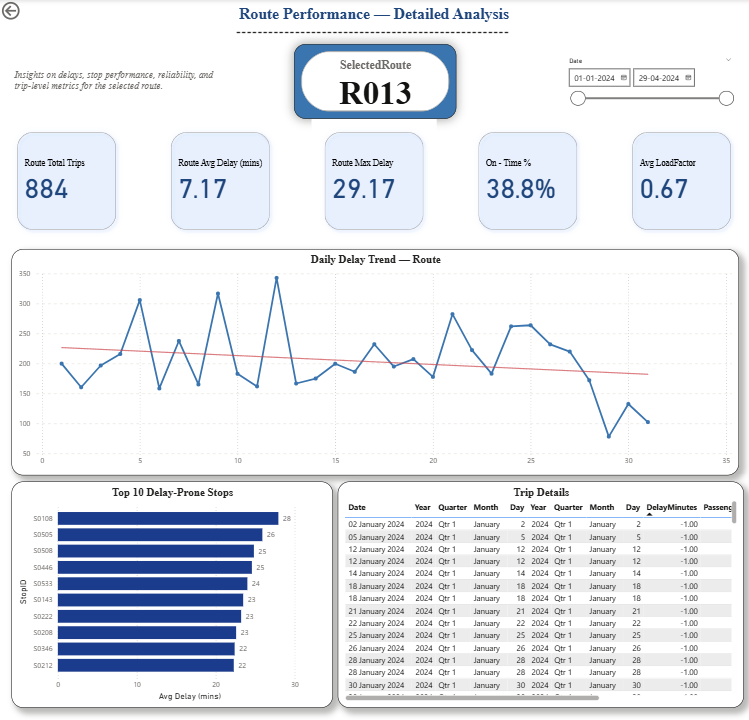

This screenshot's page, from the dashboard's own definition file:
{"tool":"powerbi","page":{"name":"Route Detail","canvas":[1280,1230],"ordinal":2},"visuals":[{"type":"actionButton","box":[0,0,100,40],"z":0},{"type":"textbox","box":[397.4,0,480.3,44.6],"z":1000},{"type":"textbox","title":"---------------------------------------------------","box":[397.4,44.6,480.3,46.8],"z":2000},{"type":"cardVisual","fields":{"Data":["transport_cleaned.SelectedRoute"]},"box":[501.5,76.5,276.3,127.5],"z":3000},{"type":"cardVisual","fields":{"Data":["transport_cleaned.Route_TripCount"]},"box":[9.4,204.4,212.5,210.4],"z":4000},{"type":"cardVisual","fields":{"Data":["transport_cleaned.Route Avg Delay (mins)"]},"box":[270.7,204.4,212.5,210.4],"z":5000},{"type":"cardVisual","fields":{"Data":["transport_cleaned.Route_MaxDelay"]},"box":[532.1,204.4,212.5,210.4],"z":6000},{"type":"cardVisual","fields":{"Data":["transport_cleaned.Route_ReliabilityPct"]},"box":[793.5,204.4,212.5,210.4],"z":7000},{"type":"cardVisual","fields":{"Data":["transport_cleaned.Route_AvgLoadFactor"]},"box":[1054.9,204.4,212.5,210.4],"z":8000},{"type":"lineChart","title":"Daily Delay Trend — Route","fields":{"Category":["DateTable.Date.Variation.Date Hierarchy.Day"],"Y":["Sum(transport_cleaned.DelayMinutes)"]},"box":[21.3,425,1236.8,384.6],"z":9000},{"type":"clusteredBarChart","title":"Top 10 Delay-Prone Stops","fields":{"Category":["transport_cleaned.StopID"],"Y":["Avg(transport_cleaned.DelayMinutes)"]},"box":[21.3,820.3,546.2,384.6],"z":10000},{"type":"tableEx","title":"Trip Details","fields":{"Values":["transport_cleaned.Date","transport_cleaned.ScheduledArrival.Variation.Date Hierarchy.Year","transport_cleaned.ScheduledArrival.Variation.Date Hierarchy.Quarter","transport_cleaned.ScheduledArrival.Variation.Date Hierarchy.Month","transport_cleaned.ScheduledArrival.Variation.Date Hierarchy.Day","transport_cleaned.ActualArrival.Variation.Date Hierarchy.Year","transport_cleaned.ActualArrival.Variation.Date Hierarchy.Quarter","transport_cleaned.ActualArrival.Variation.Date Hierarchy.Month","transport_cleaned.ActualArrival.Variation.Date Hierarchy.Day","transport_cleaned.DelayMinutes","transport_cleaned.PassengerCount","transport_cleaned.LoadFactor"]},"box":[575.9,820.3,690.7,384.6],"z":11000},{"type":"textbox","box":[21.3,114.8,395.3,48.9],"z":12000},{"type":"slicer","fields":{"Values":["DateTable.Date"]},"box":[956.3,93.5,301.8,93.5],"z":12001}]}

Visuals, with their boxes in screenshot pixels (x1, y1, x2, y2), scaled from the page's 1280x1230 canvas onto the 749x720 screenshot:
actionButton: x1=0 y1=0 x2=59 y2=23
textbox: x1=233 y1=0 x2=514 y2=26
"---------------------------------------------------" textbox: x1=233 y1=26 x2=514 y2=54
cardVisual - transport_cleaned.SelectedRoute: x1=293 y1=45 x2=455 y2=119
cardVisual - transport_cleaned.Route_TripCount: x1=6 y1=120 x2=130 y2=243
cardVisual - transport_cleaned.Route Avg Delay (mins): x1=158 y1=120 x2=283 y2=243
cardVisual - transport_cleaned.Route_MaxDelay: x1=311 y1=120 x2=436 y2=243
cardVisual - transport_cleaned.Route_ReliabilityPct: x1=464 y1=120 x2=589 y2=243
cardVisual - transport_cleaned.Route_AvgLoadFactor: x1=617 y1=120 x2=742 y2=243
"Daily Delay Trend — Route" lineChart: x1=12 y1=249 x2=736 y2=474
"Top 10 Delay-Prone Stops" clusteredBarChart: x1=12 y1=480 x2=332 y2=705
"Trip Details" tableEx: x1=337 y1=480 x2=741 y2=705
textbox: x1=12 y1=67 x2=244 y2=96
slicer - DateTable.Date: x1=560 y1=55 x2=736 y2=109
